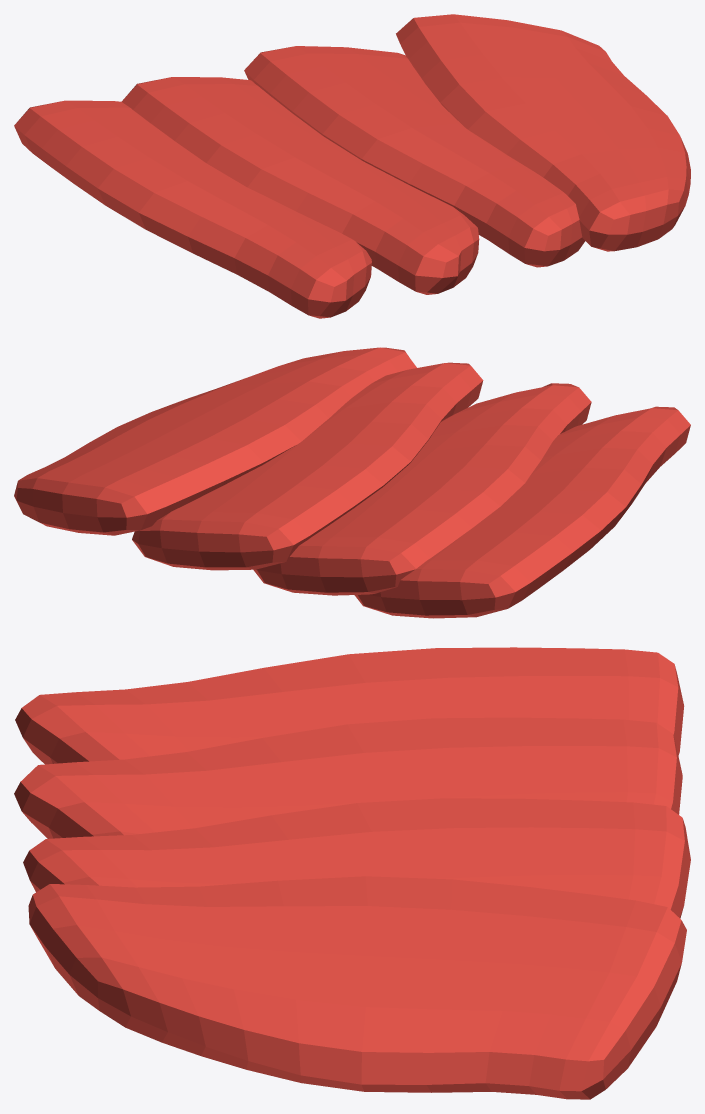
The model's file is choppedtuna.glb.
The picture shows the model from 3 angles, top to bottom: view 1: azimuth 30°, elevation 25°; view 2: azimuth 150°, elevation 25°; view 3: azimuth 270°, elevation 25°; orthographic projection. The views are drawn at different scales.
Visible parts, largest first — view 1: choppedtuna; view 2: choppedtuna; view 3: choppedtuna.
Boxes of the visible parts, <box> form: choppedtuna: <box>14,14,690,318</box>; choppedtuna: <box>14,347,690,618</box>; choppedtuna: <box>14,647,690,1099</box>.
Size of the model in its own units: 3.39 by 0.5091 by 2.69.
